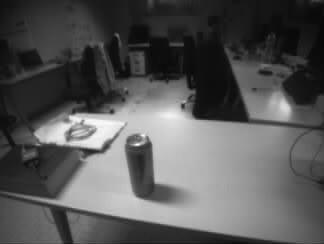Tin can: (128, 135, 154, 196)
